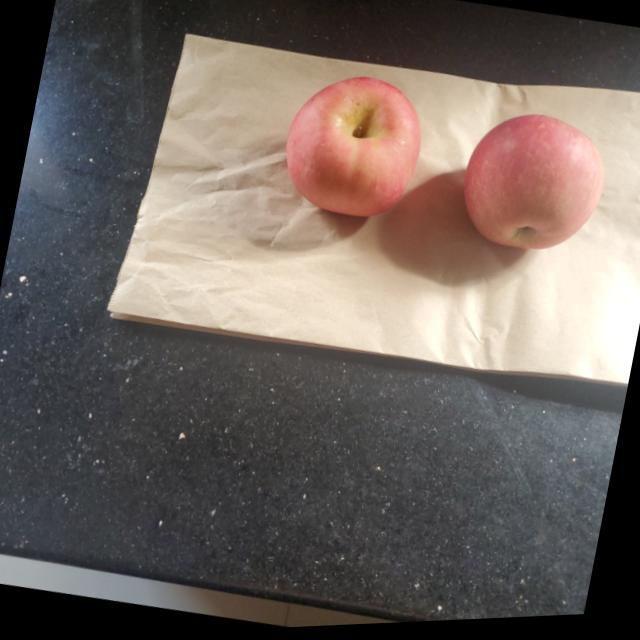apple: (451, 100, 621, 266), (274, 59, 434, 231)
